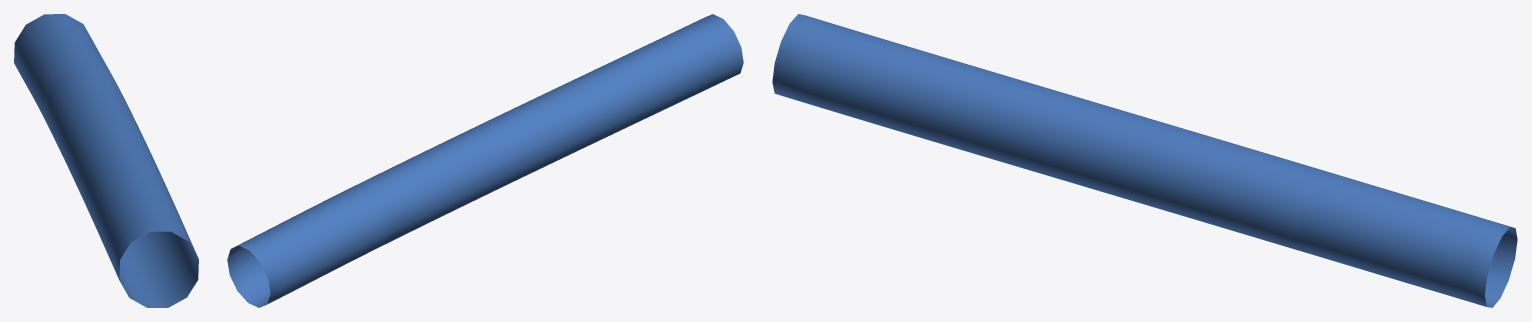
The picture shows the model from 3 angles, left to right: view 1: azimuth 30°, elevation 25°; view 2: azimuth 150°, elevation 25°; view 3: azimuth 270°, elevation 25°; orthographic projection. The views are drawn at different scales.
Parts seen in each view (by area): view 1: 右侧下颌后静脉前支; view 2: 右侧下颌后静脉前支; view 3: 右侧下颌后静脉前支.
Boxes of the visible parts, box(x1,y1,x2,y2) form: 右侧下颌后静脉前支: box(14, 14, 198, 307); 右侧下颌后静脉前支: box(227, 14, 743, 307); 右侧下颌后静脉前支: box(772, 14, 1517, 307).
Size of the model in its own units: 0.0149 by 0.00766 by 0.0306.
